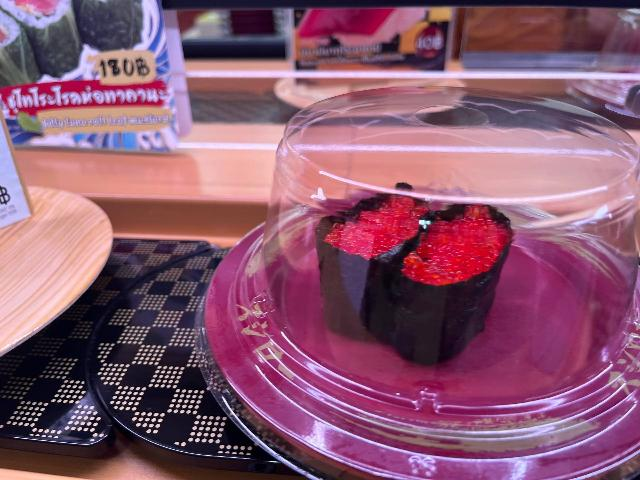janred: (235, 226, 640, 480)
